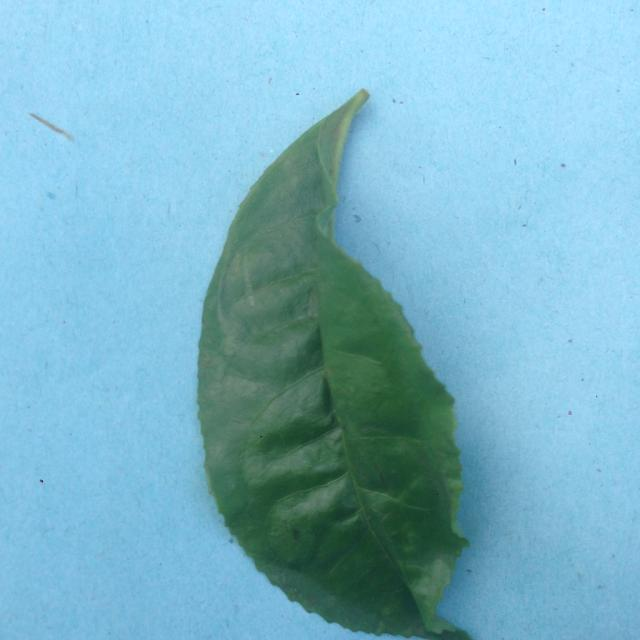Healthy: (143, 82, 510, 639)
